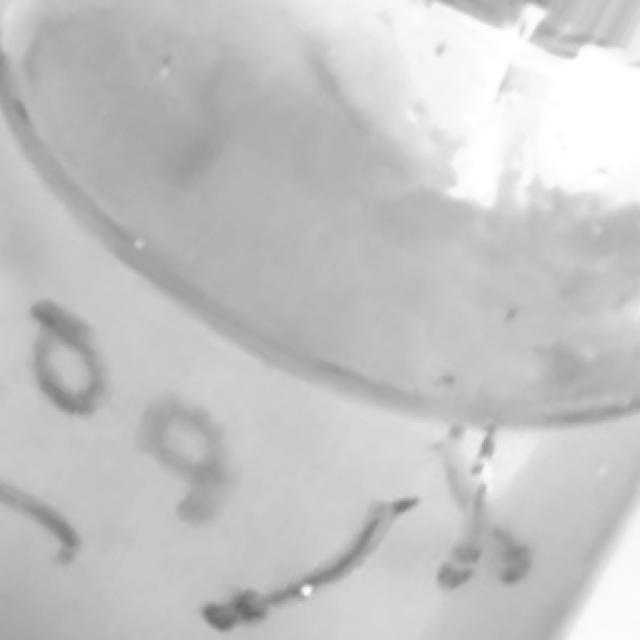larvas: (197, 476, 423, 640), (431, 434, 555, 599), (426, 433, 514, 601), (138, 404, 231, 511), (24, 304, 106, 408), (1, 478, 82, 560)
